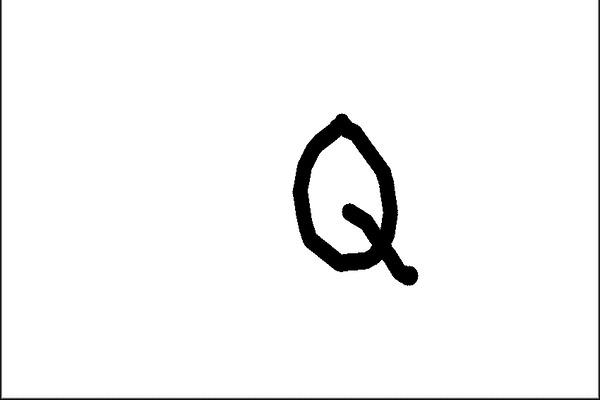Q: (275, 105, 424, 293)
